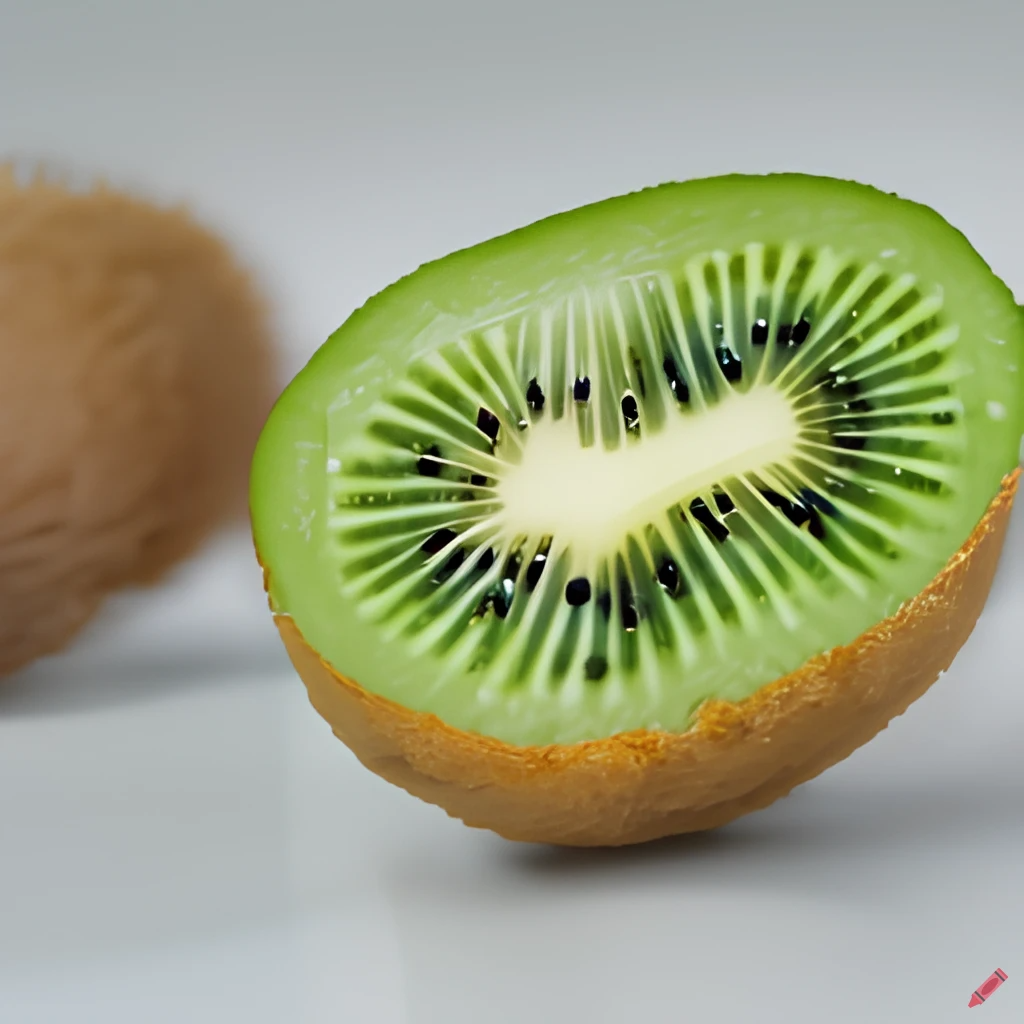Kiwi: (235, 170, 1024, 874)
